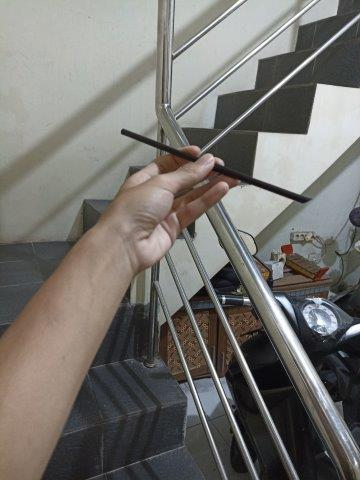sedotan: (122, 128, 309, 202)
